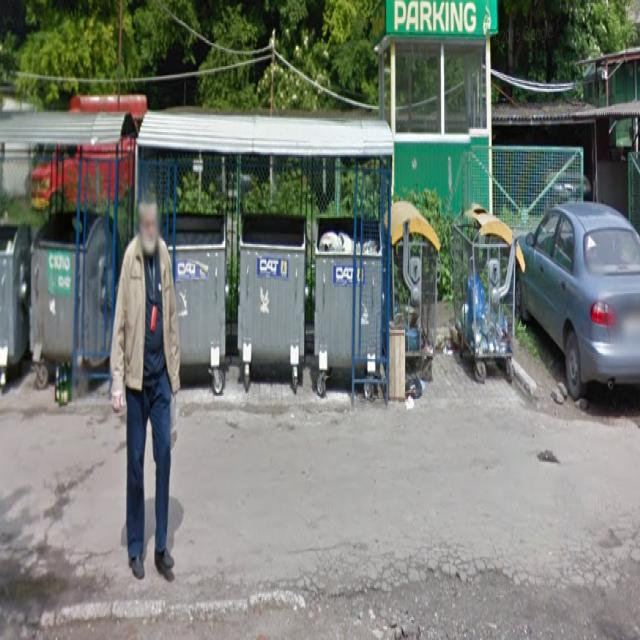general wastetrash bin: (314, 211, 384, 414), (239, 214, 306, 398), (173, 212, 228, 396)
plastic trash bin: (451, 205, 525, 378), (388, 196, 441, 391)
